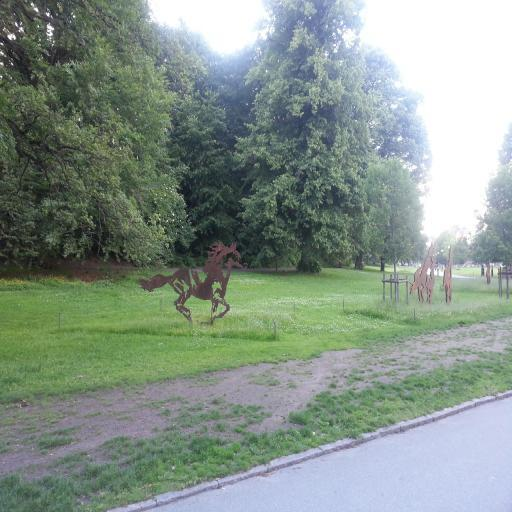horse: (138, 236, 246, 326)
